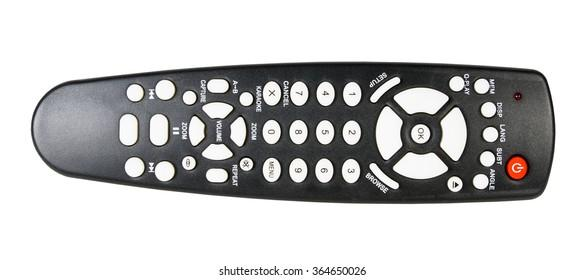Remote control: (29, 62, 558, 206)
